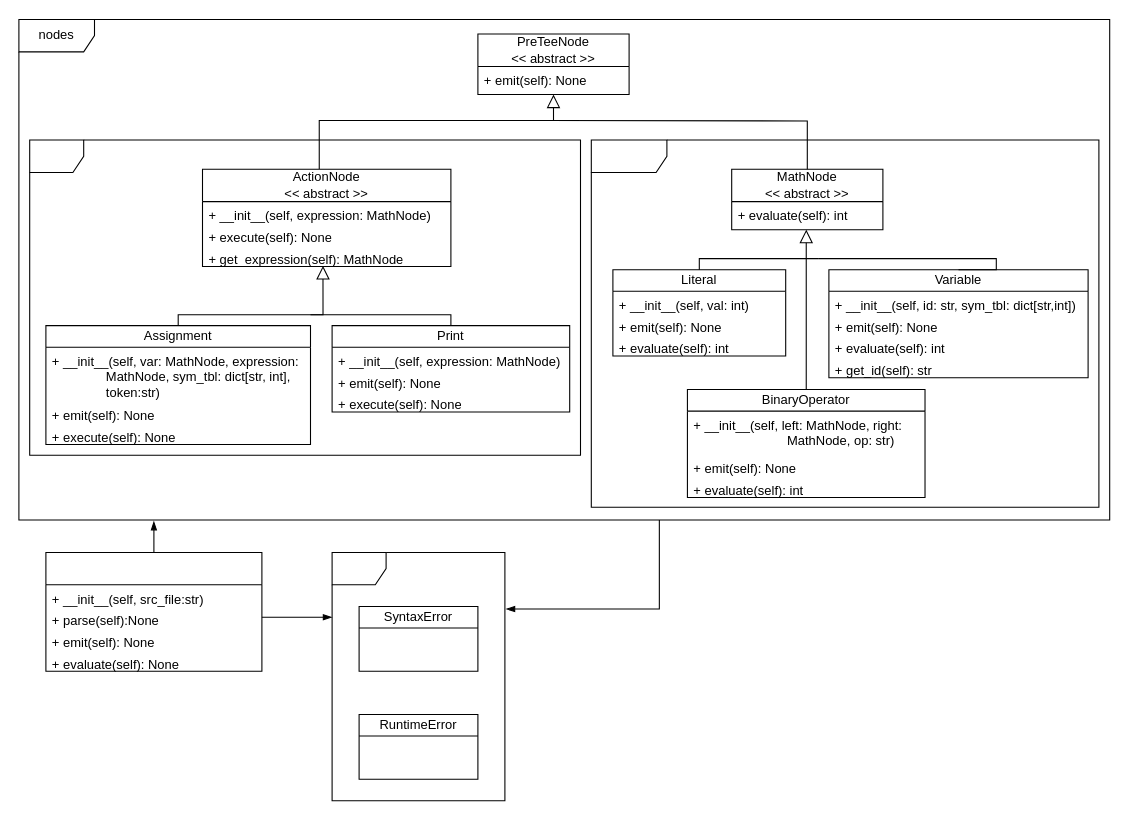
This 1129x820 diagram has some shape labels left out. Each missing label, with the box of its shape:
action: (29, 139, 580, 455)
errors: (331, 551, 505, 801)
expression: (590, 139, 1099, 507)
Pre Tee: (45, 551, 262, 671)
